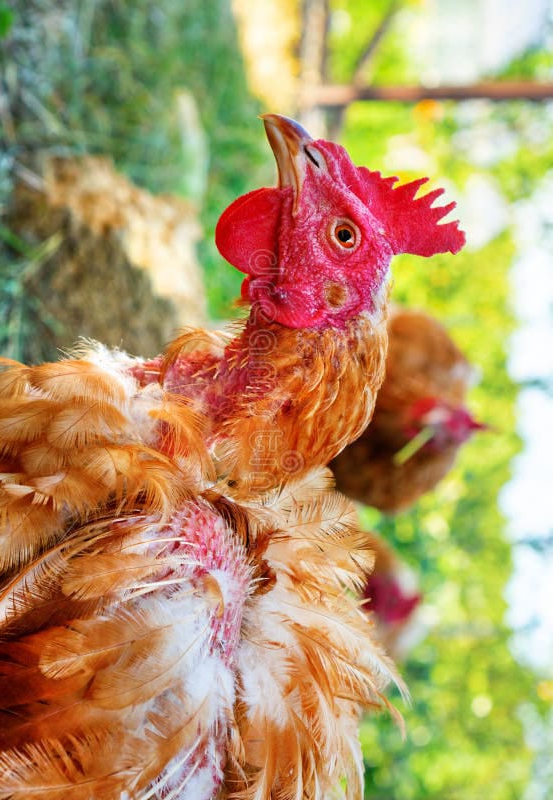Unhealthy: (6, 69, 454, 789)
